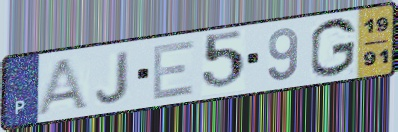5: (201, 28, 248, 94)
9: (266, 26, 300, 83)
A: (31, 55, 92, 116)
E: (150, 37, 197, 102)
G: (308, 16, 358, 80)
J: (94, 48, 133, 105)
